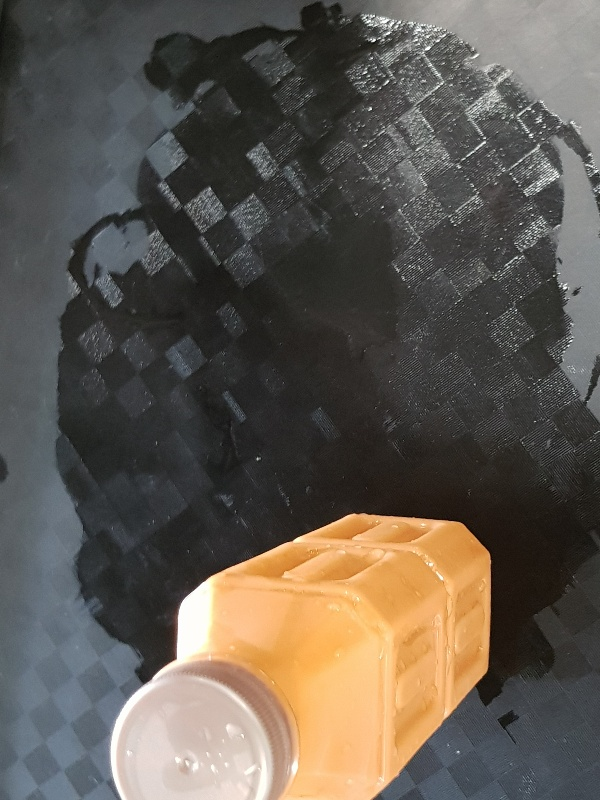Thai Milk Tea: (109, 510, 490, 800)
